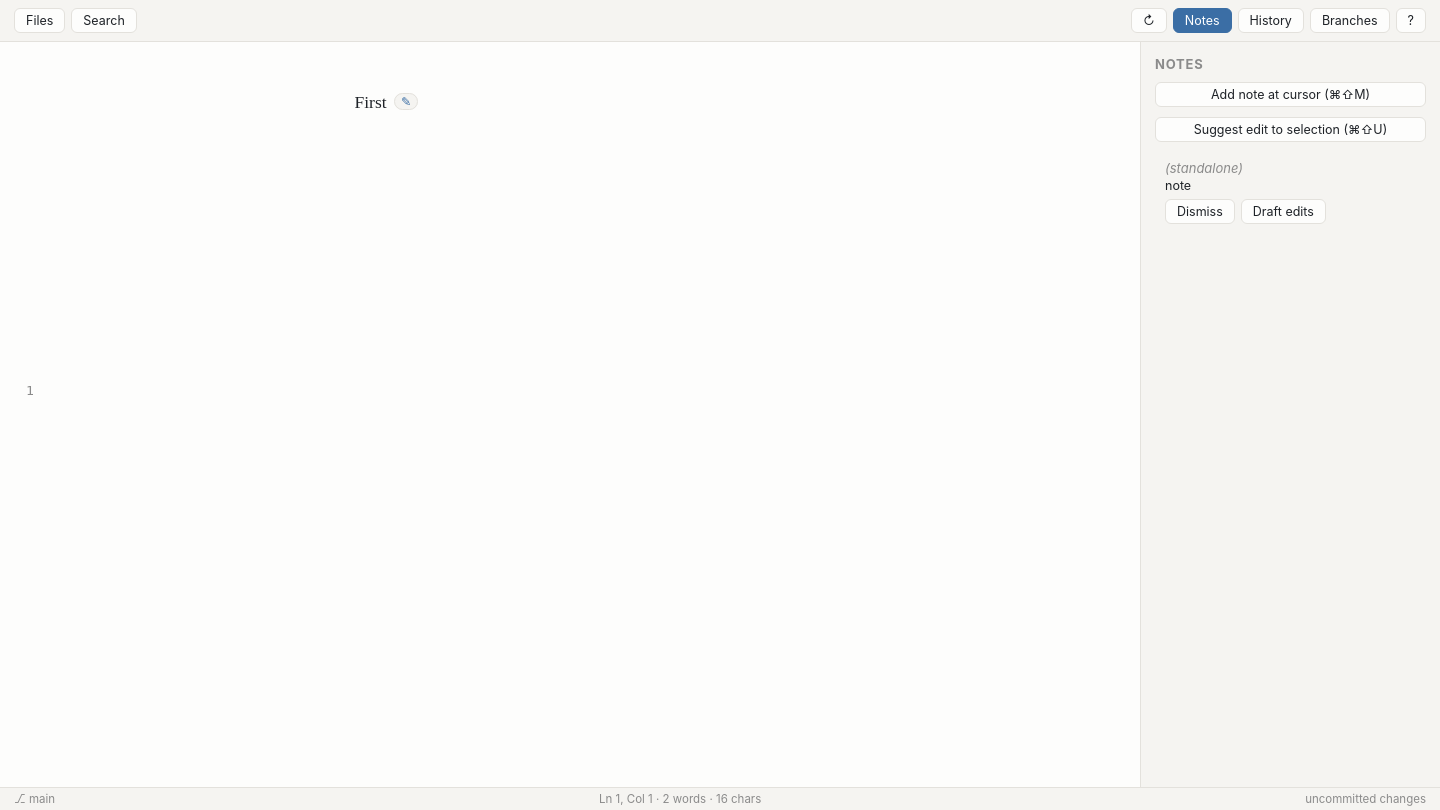
Test: keeps Undo and notes in sync when options are changed through app commands
The image size is (1440, 810).
Expected: the number of list items is 1, [1165, 160, 1326, 224]
Click the button "Dismiss" at (1200, 212), box [1165, 199, 1235, 224]
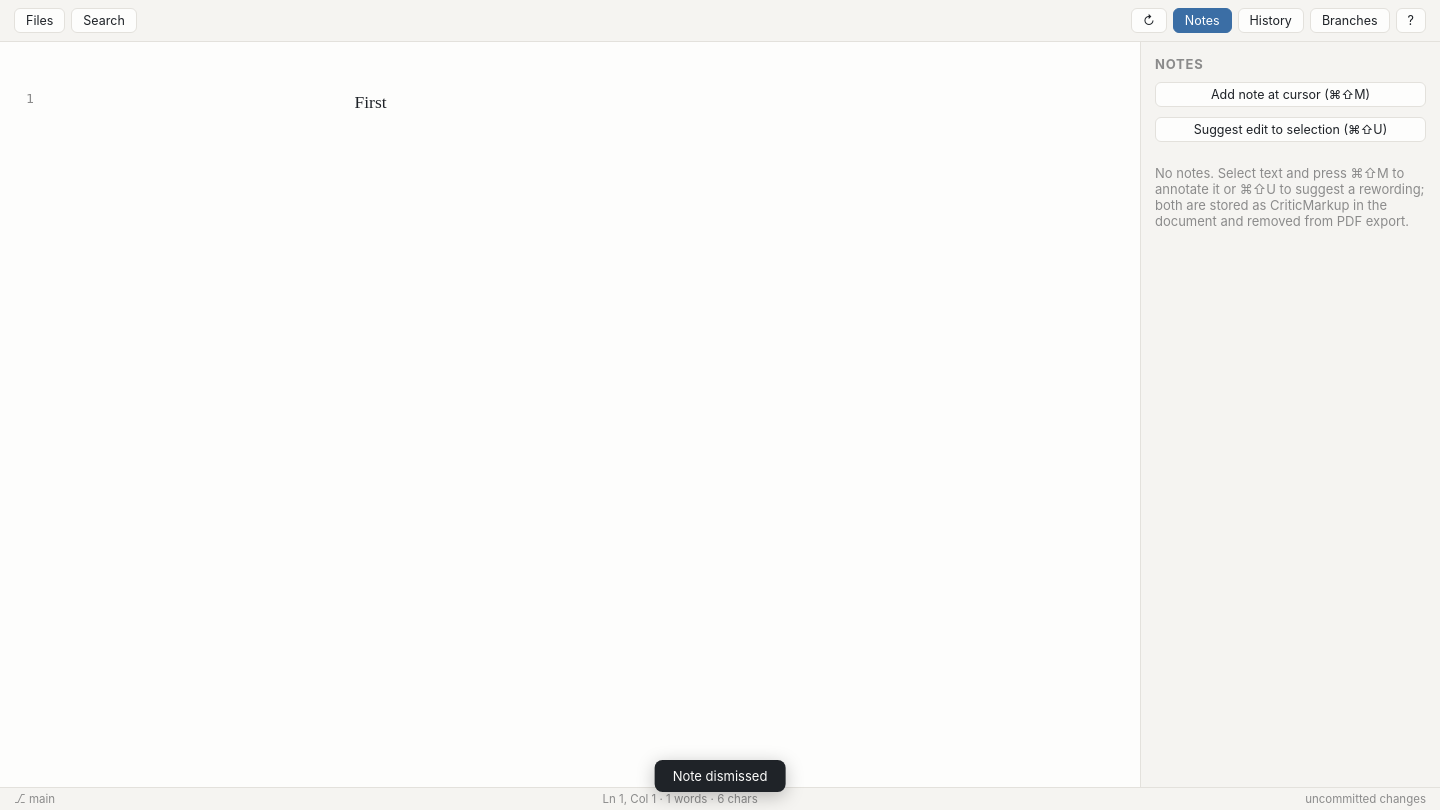
Expected: the text box labelled "First" is shown, [354, 92, 391, 112]
Result: no list items are shown
